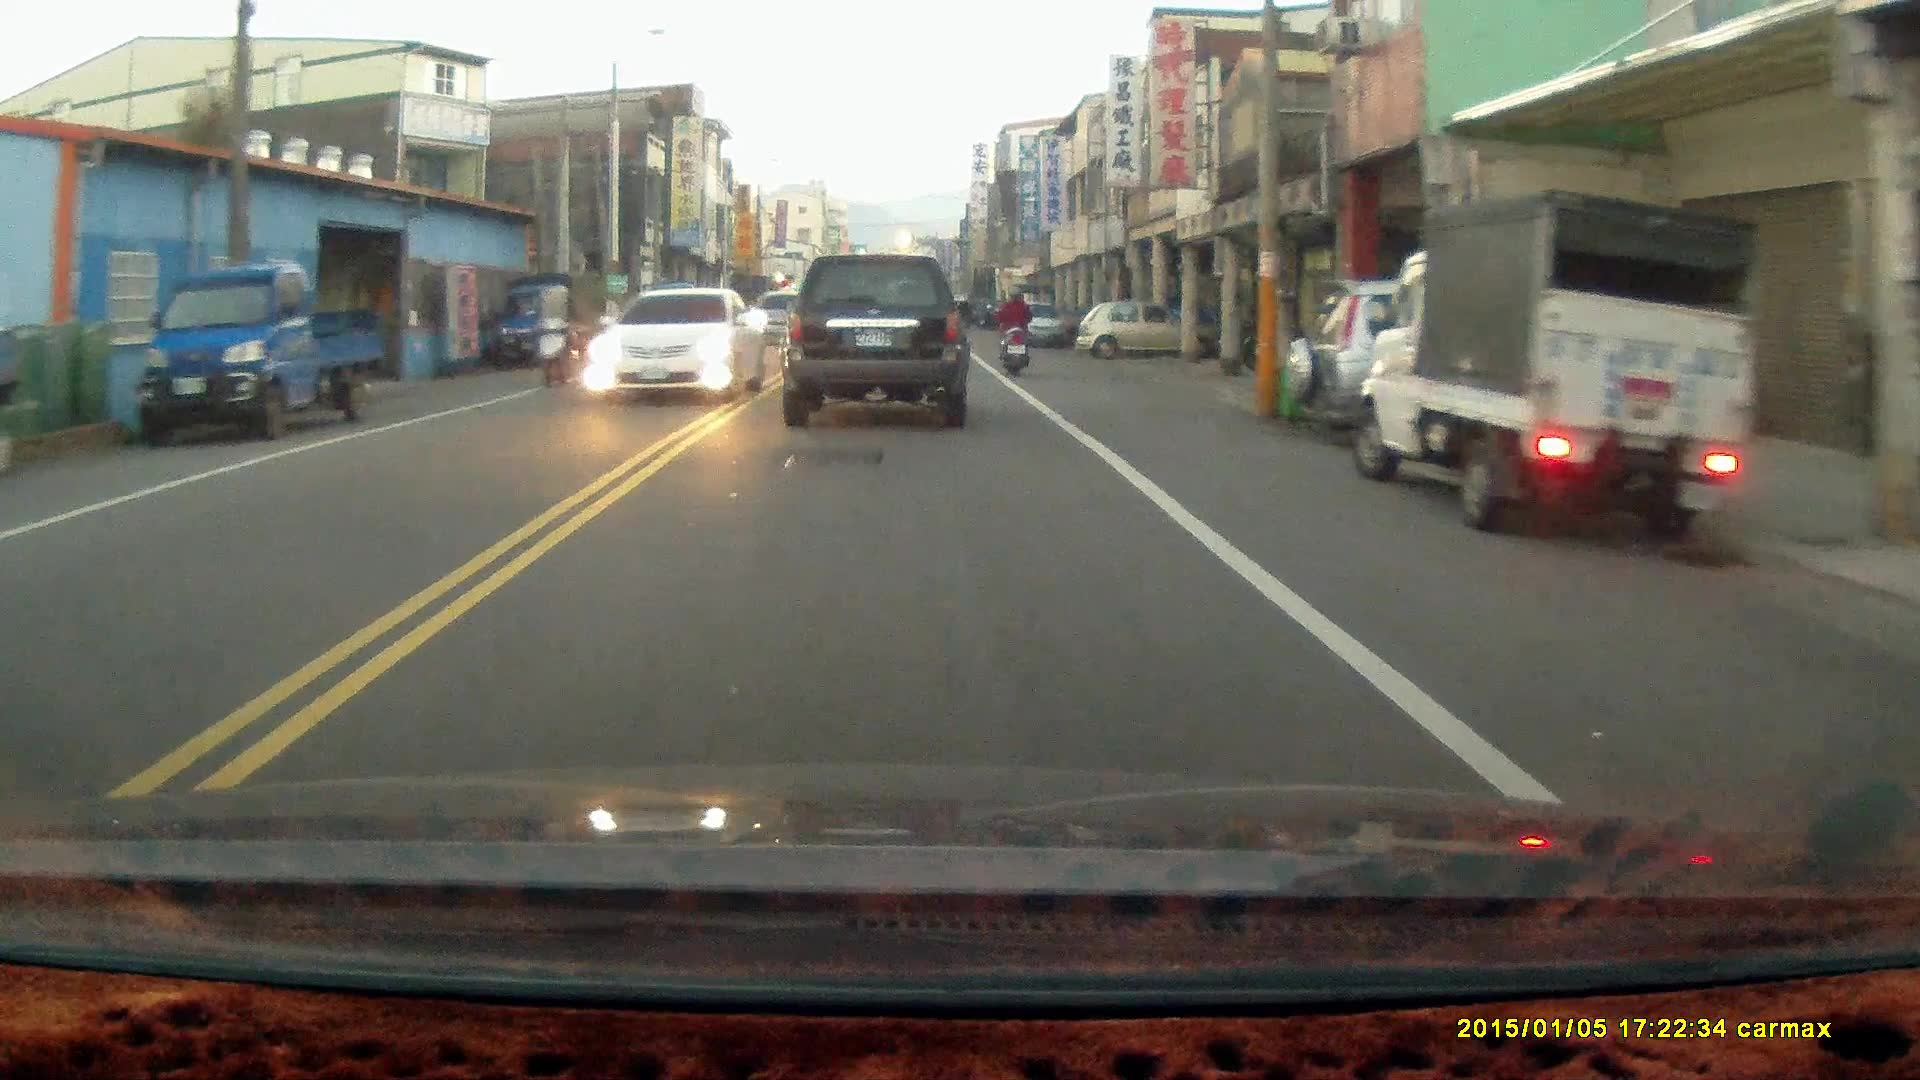rider: (529, 284, 582, 388), (995, 279, 1032, 374)
vehicle: (1359, 182, 1756, 559), (1284, 277, 1672, 439), (126, 265, 390, 444), (779, 251, 975, 429), (583, 287, 773, 403), (487, 272, 610, 371), (1078, 298, 1181, 357)
